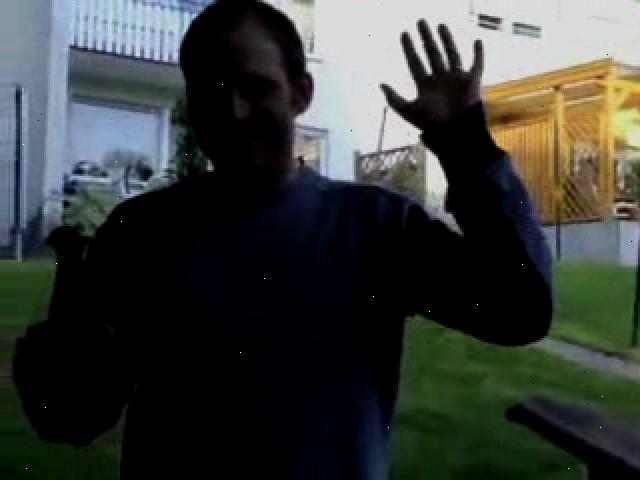L: (16, 4, 559, 478)
